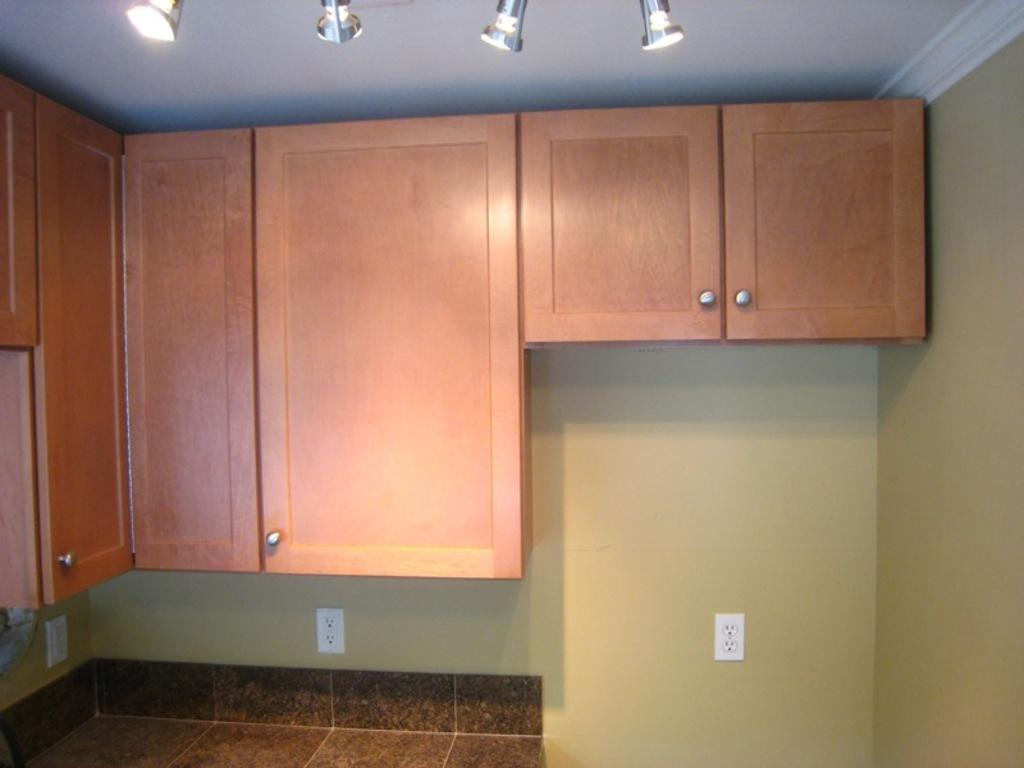cabinet_door: (255, 138, 515, 577), (722, 102, 930, 335), (34, 109, 124, 573), (524, 124, 721, 333)
handle: (51, 542, 77, 584), (260, 516, 290, 552), (692, 280, 722, 314), (729, 280, 755, 318)
